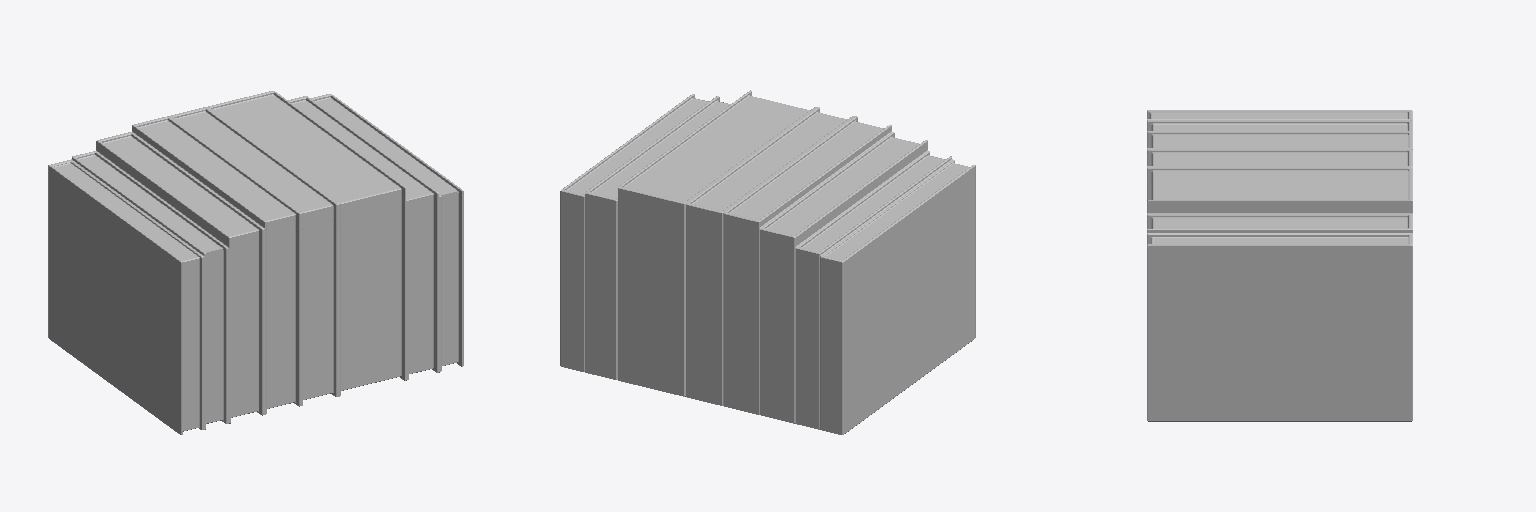
The model's file is books.obj.
The picture shows the model from 3 angles: view 1: azimuth 30°, elevation 25°; view 2: azimuth 150°, elevation 25°; view 3: azimuth 270°, elevation 25°; orthographic projection.
Parts seen in each view (by area): view 1: Books01; view 2: Books01; view 3: Books01.
Part boxes in pixels (left/top/right/bottom): Books01: left=48, top=91, right=463, bottom=434; Books01: left=560, top=90, right=975, bottom=434; Books01: left=1147, top=110, right=1412, bottom=421.
Size of the model in its own units: 0.3006 by 0.1965 by 0.2447.